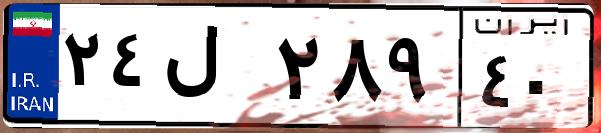0: (525, 38, 570, 115)
2: (270, 28, 330, 110), (57, 26, 110, 100)
4: (475, 38, 525, 113), (110, 28, 158, 98)
8: (330, 28, 385, 110)
9: (385, 28, 445, 110)
ل: (158, 20, 270, 120)
